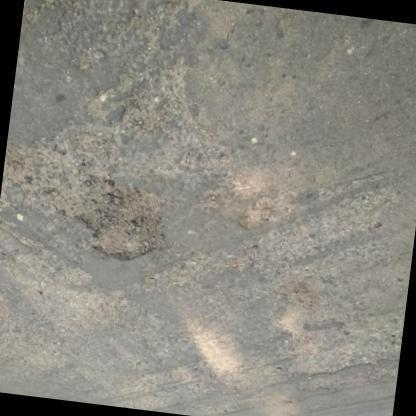pothole: (0, 136, 166, 260), (86, 75, 192, 150), (197, 173, 290, 229), (271, 268, 322, 312)
